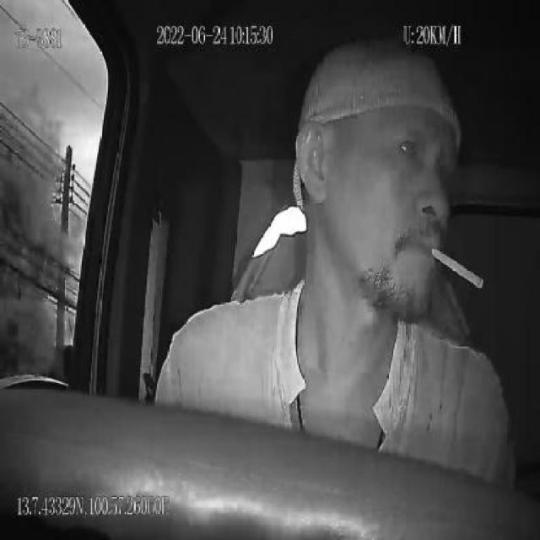smoking: (430, 240, 486, 292)
